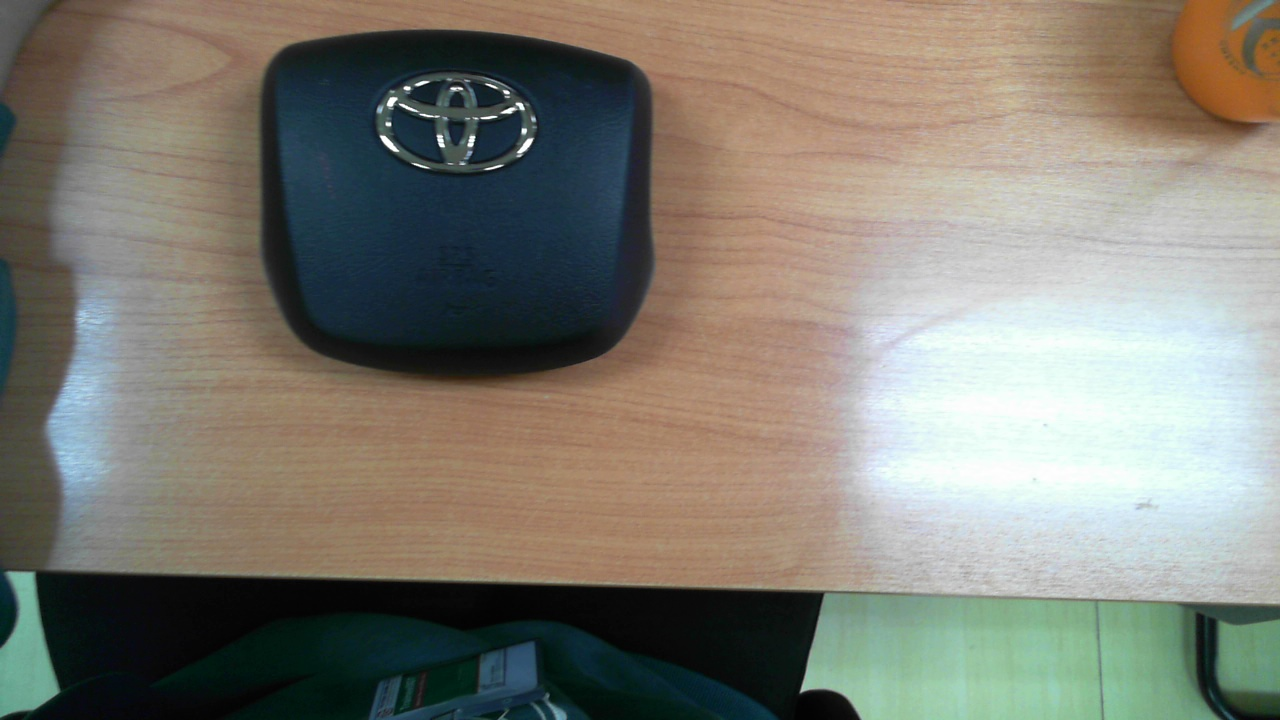Airbag: (261, 29, 655, 383)
Toyota: (376, 72, 537, 173)
